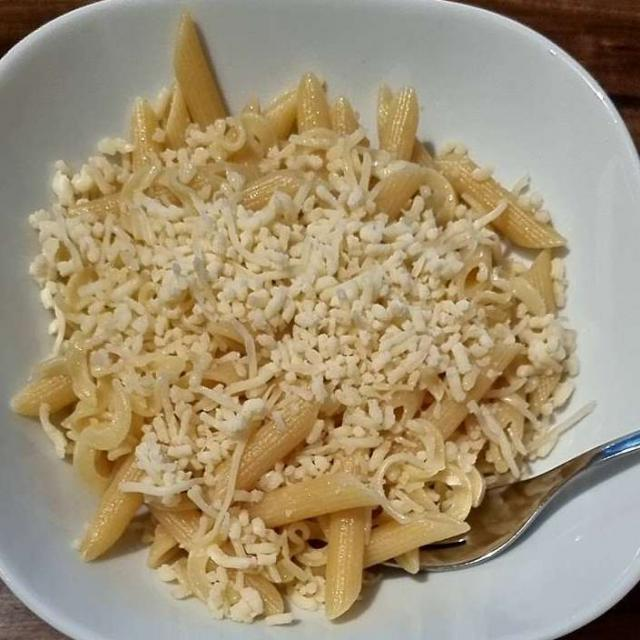cheese: (72, 156, 516, 522)
pasta: (38, 69, 571, 609)
